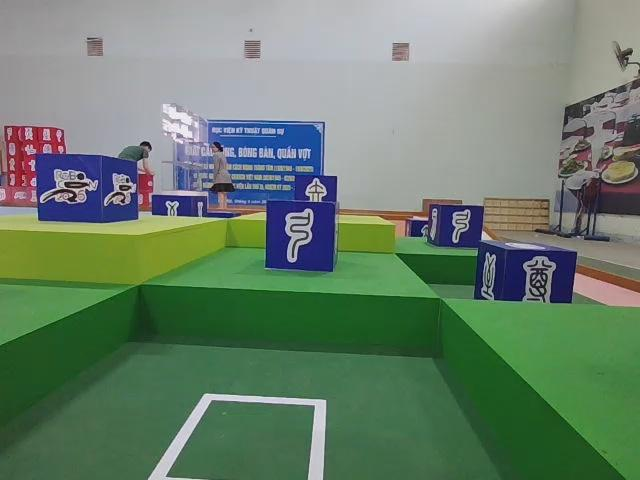R1 Blue: (34, 152, 138, 223)
R2 Fake Blue: (477, 241, 581, 305), (265, 199, 340, 273), (426, 204, 482, 249), (292, 174, 335, 203)
R2 Real Blue: (154, 194, 210, 218)
